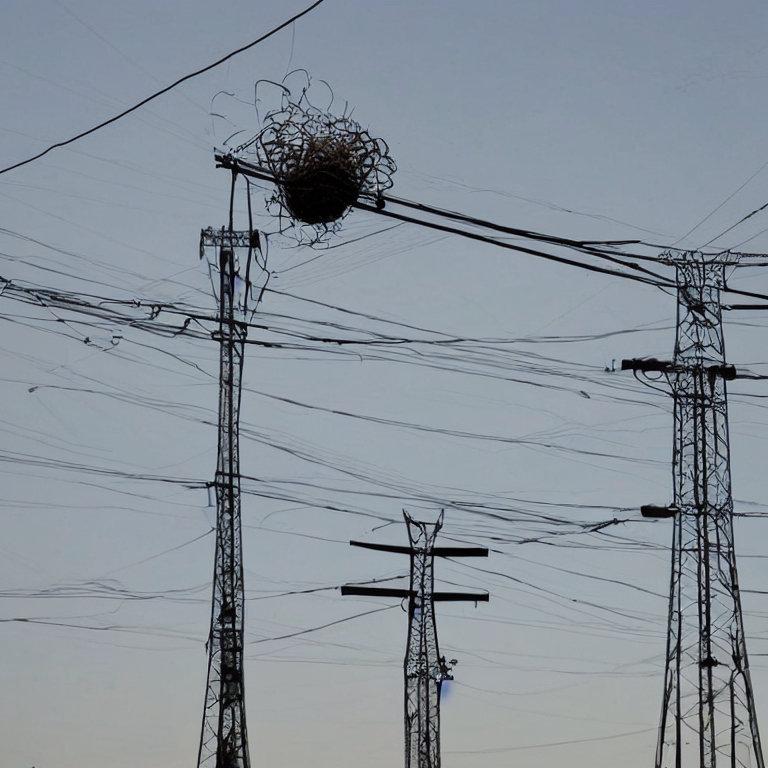nest: (267, 123, 388, 225)
